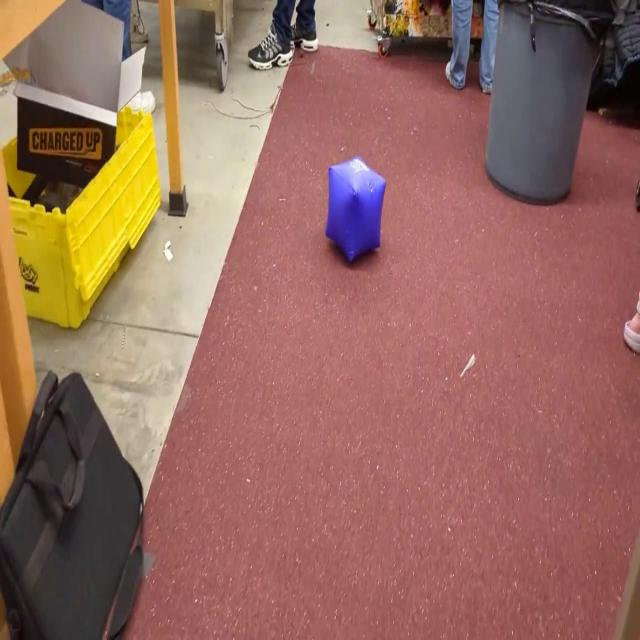frc_cube: (326, 151, 386, 268)
